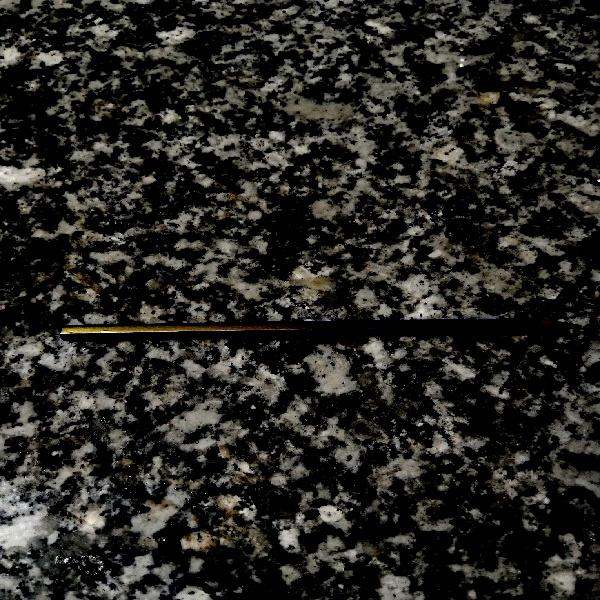pencil: (56, 318, 509, 343)
